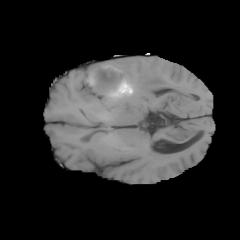glioma: (85, 63, 165, 111)
